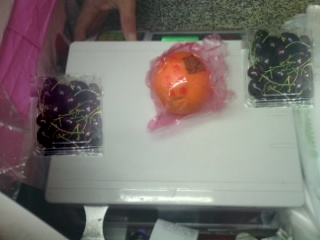juzi: (139, 39, 229, 131)
yintao: (238, 22, 318, 112), (27, 70, 107, 160)
